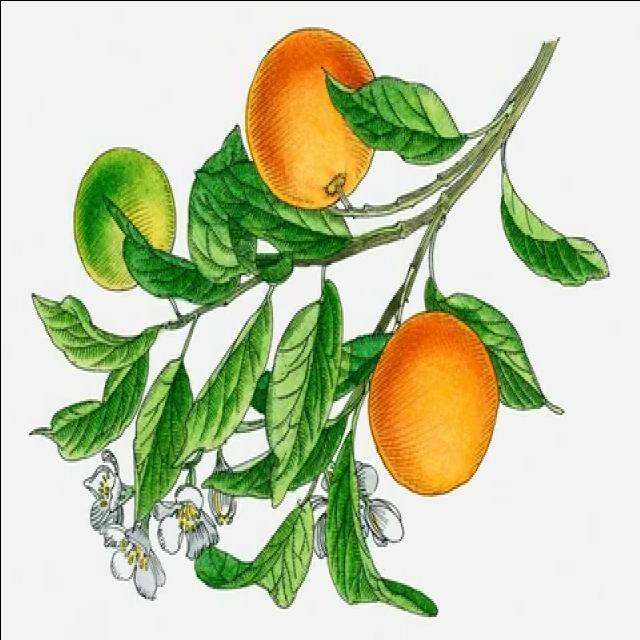orange: (356, 294, 494, 511), (232, 23, 380, 216)
